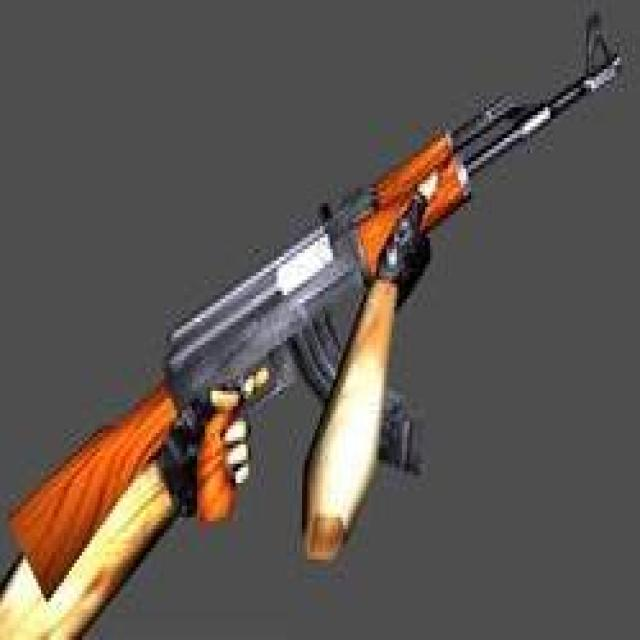Gun: (3, 28, 622, 612)
